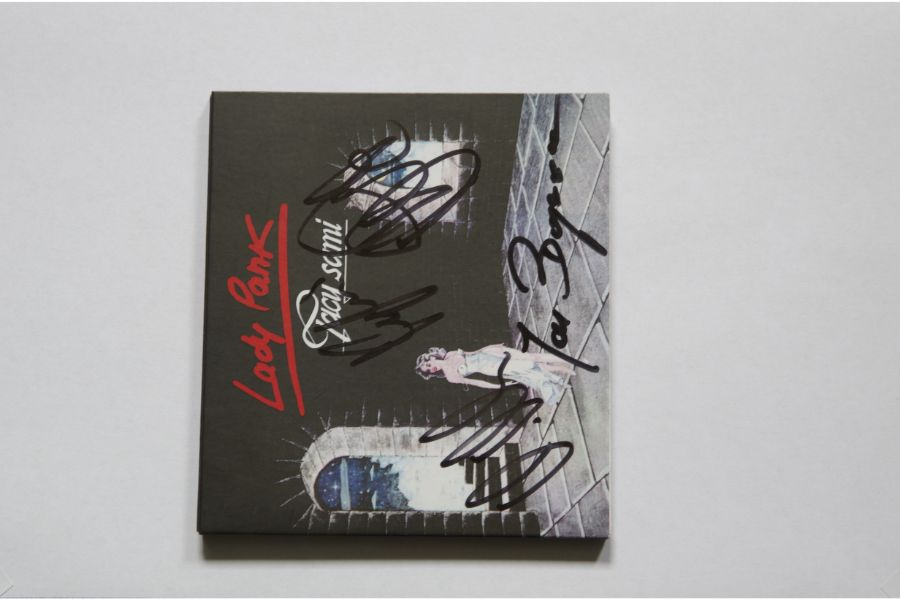album: (201, 93, 614, 542)
